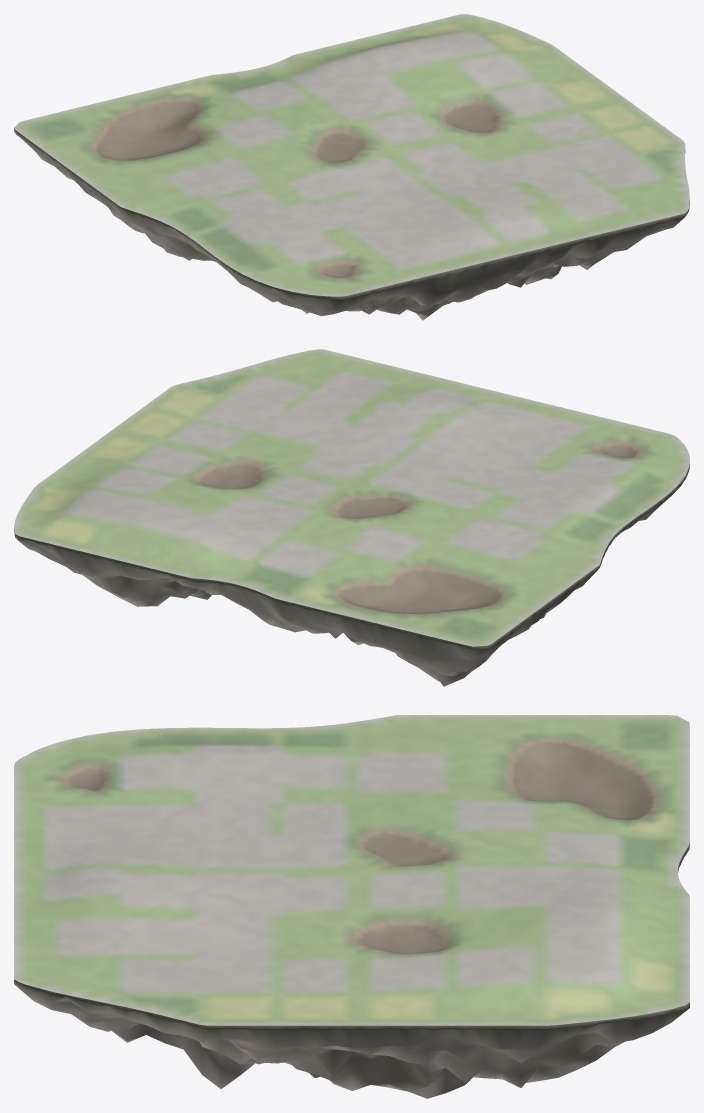
File: SKY-037.rock.glb
The picture shows the model from 3 angles, top to bottom: view 1: azimuth 30°, elevation 25°; view 2: azimuth 150°, elevation 25°; view 3: azimuth 270°, elevation 25°; orthographic projection. The views are drawn at different scales.
Visible parts, largest first — view 1: deck-col, rock; view 2: deck-col, rock; view 3: deck-col, rock.
Boxes of the visible parts, x1,y1,x2,y2 form: deck-col: (14,14,689,296); rock: (14,128,689,320); deck-col: (14,349,689,646); rock: (14,464,689,686); deck-col: (14,715,689,1025); rock: (14,842,689,1098).
Size of the model in its own units: 235 by 69.85 by 216.
